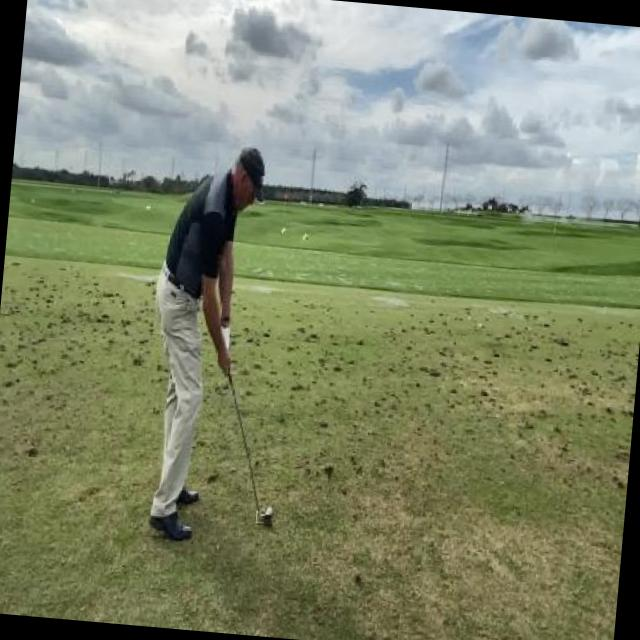club head: (255, 511, 273, 526)
